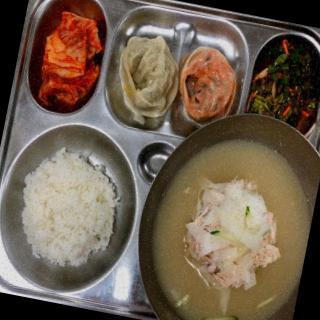Nasi: (9, 142, 133, 277)
